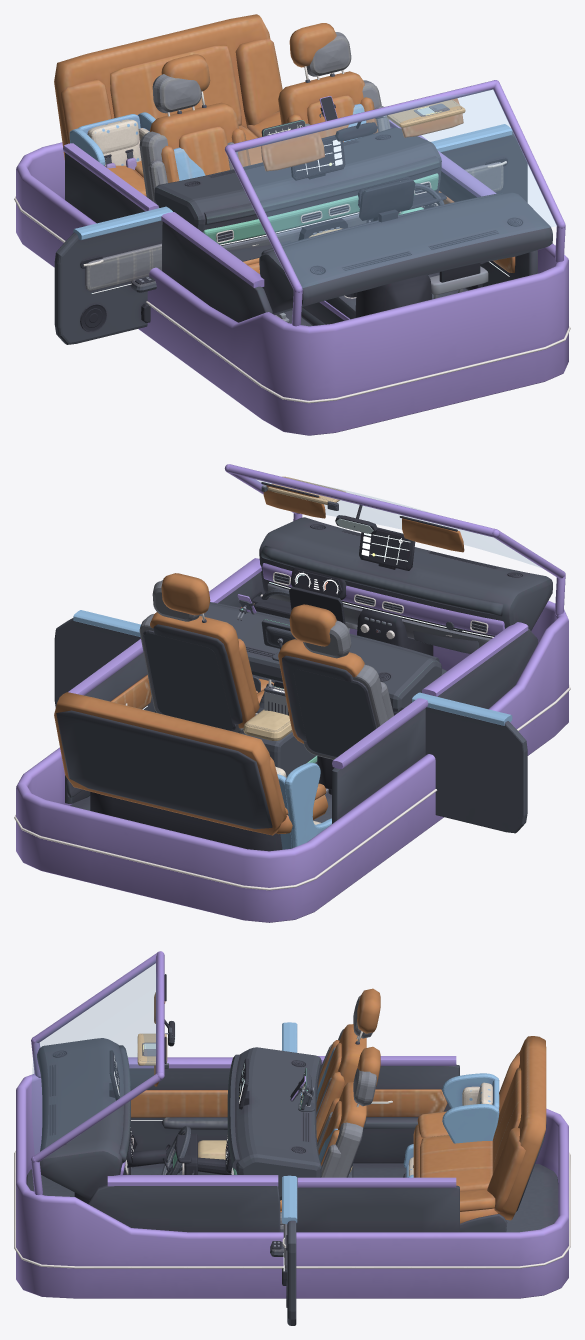
The model's file is cockpit.glb.
The picture shows the model from 3 angles, top to bottom: view 1: azimuth 30°, elevation 25°; view 2: azimuth 150°, elevation 25°; view 3: azimuth 270°, elevation 25°; orthographic projection. The views are drawn at different scales.
Parts seen in each view (by area): view 1: modern-car-interior_body, modern-car-interior_windshield_glass, asm_dash_car-dashboard_body, asm_door_r_car-door-panel_body, asm_door_l_car-door-panel_body, asm_seat_pax_car-seat_body, asm_childseat_child-car-seat_body, asm_seat_driver_car-seat_body, asm_visor_sun-visor_visor_flap; view 2: modern-car-interior_body, asm_door_r_car-door-panel_body, asm_seat_pax_car-seat_body, asm_dash_car-dashboard_body, asm_seat_driver_car-seat_body, asm_door_l_car-door-panel_body, asm_childseat_child-car-seat_body, modern-car-interior_windshield_glass, asm_console_center-console_body, asm_console_center-console_lid, asm_nav_car-navigation-screen_body, asm_cluster_instrument-cluster_body (+2 smaller); view 3: modern-car-interior_body, modern-car-interior_windshield_glass, asm_dash_car-dashboard_body, asm_childseat_child-car-seat_body, asm_seat_driver_car-seat_body, asm_door_l_car-door-panel_body, asm_cluster_instrument-cluster_body, asm_dash_car-dashboard_steering_wheel, asm_visor_sun-visor_visor_flap, asm_seat_pax_car-seat_body, asm_door_r_car-door-panel_body.
Boxes of the visible parts, x1,y1,x2,y2 form: modern-car-interior_body: (14,14,570,435); modern-car-interior_windshield_glass: (236,89,556,287); asm_dash_car-dashboard_body: (154,127,441,261); asm_door_r_car-door-panel_body: (54,206,172,344); asm_door_l_car-door-panel_body: (431,124,527,202); asm_seat_pax_car-seat_body: (139,74,238,203); asm_childseat_child-car-seat_body: (69,112,155,169); asm_seat_driver_car-seat_body: (305,32,390,141); asm_visor_sun-visor_visor_flap: (387,100,465,127); modern-car-interior_body: (14,464,570,922); asm_door_r_car-door-panel_body: (393,692,527,833); asm_seat_pax_car-seat_body: (293,620,393,794); asm_dash_car-dashboard_body: (200,586,441,713); asm_seat_driver_car-seat_body: (139,580,243,733); asm_door_l_car-door-panel_body: (54,610,140,707); asm_childseat_child-car-seat_body: (275,762,331,849); modern-car-interior_windshield_glass: (249,478,540,567); asm_console_center-console_body: (243,731,317,777); asm_console_center-console_lid: (243,709,292,740); asm_nav_car-navigation-screen_body: (261,619,296,661); asm_cluster_instrument-cluster_body: (251,596,291,618); modern-car-interior_body: (14,951,570,1298); modern-car-interior_windshield_glass: (32,960,157,1154); asm_dash_car-dashboard_body: (198,1047,321,1200); asm_childseat_child-car-seat_body: (403,1073,499,1177); asm_seat_driver_car-seat_body: (280,1068,376,1229); asm_door_l_car-door-panel_body: (270,1175,297,1325); asm_cluster_instrument-cluster_body: (175,1130,197,1174); asm_dash_car-dashboard_steering_wheel: (161,1126,190,1174); asm_visor_sun-visor_visor_flap: (137,1033,167,1065); asm_seat_pax_car-seat_body: (227,995,372,1138); asm_door_r_car-door-panel_body: (282,1022,297,1052).
Bounding box in the file's own units: 2.86 × 1.39 × 3.16.
65 materials, 26 textured.
